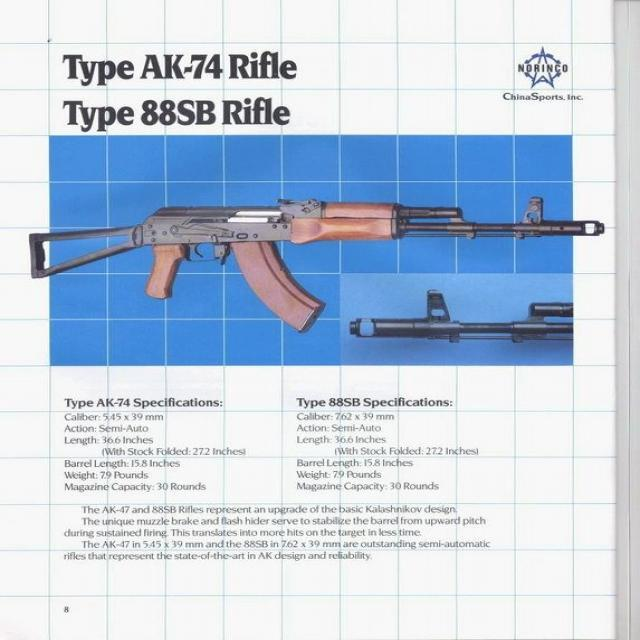ak: (30, 187, 620, 335)
